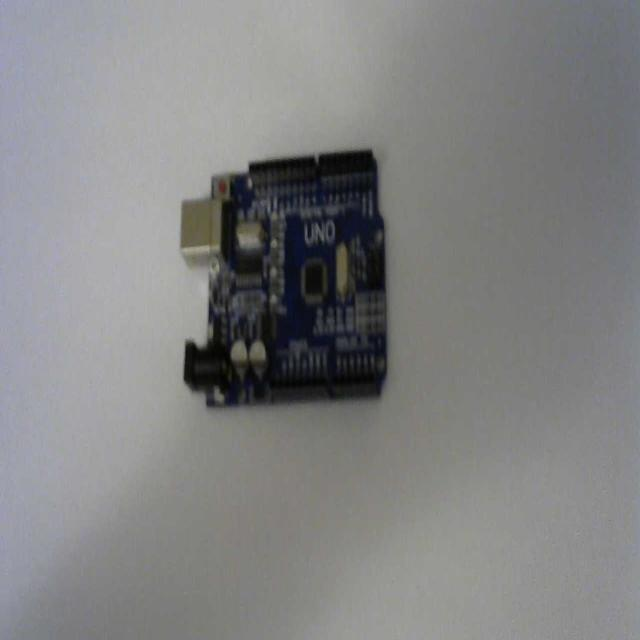arduino: (176, 144, 392, 412)
